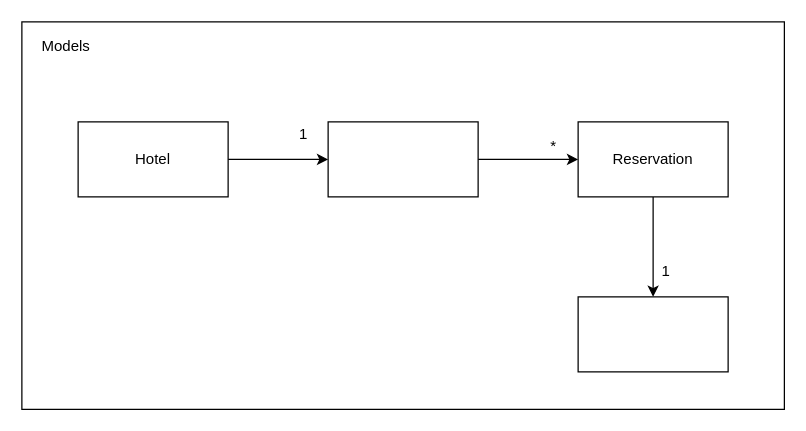
This 806x431 diagram has some shape labels left out. Each missing label, with the centre of its shape:
"Reservation Book" belongs at (402,159).
"Room ID" belongs at (652,334).
